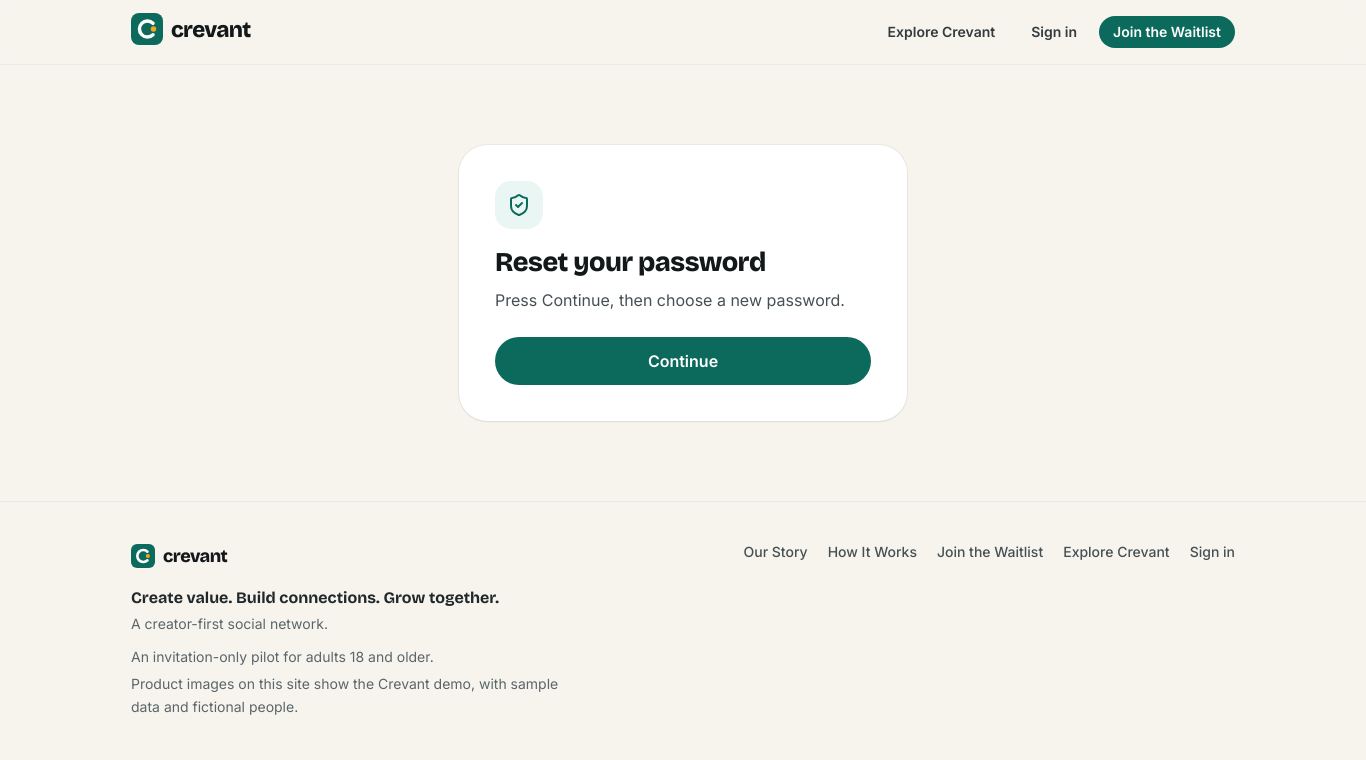
Test case: email links (/auth/confirm) › explains an expired or used link without retrying
This screenshot has width=1366, height=760.
Click the button "Continue": [683, 361] box [495, 337, 871, 385]
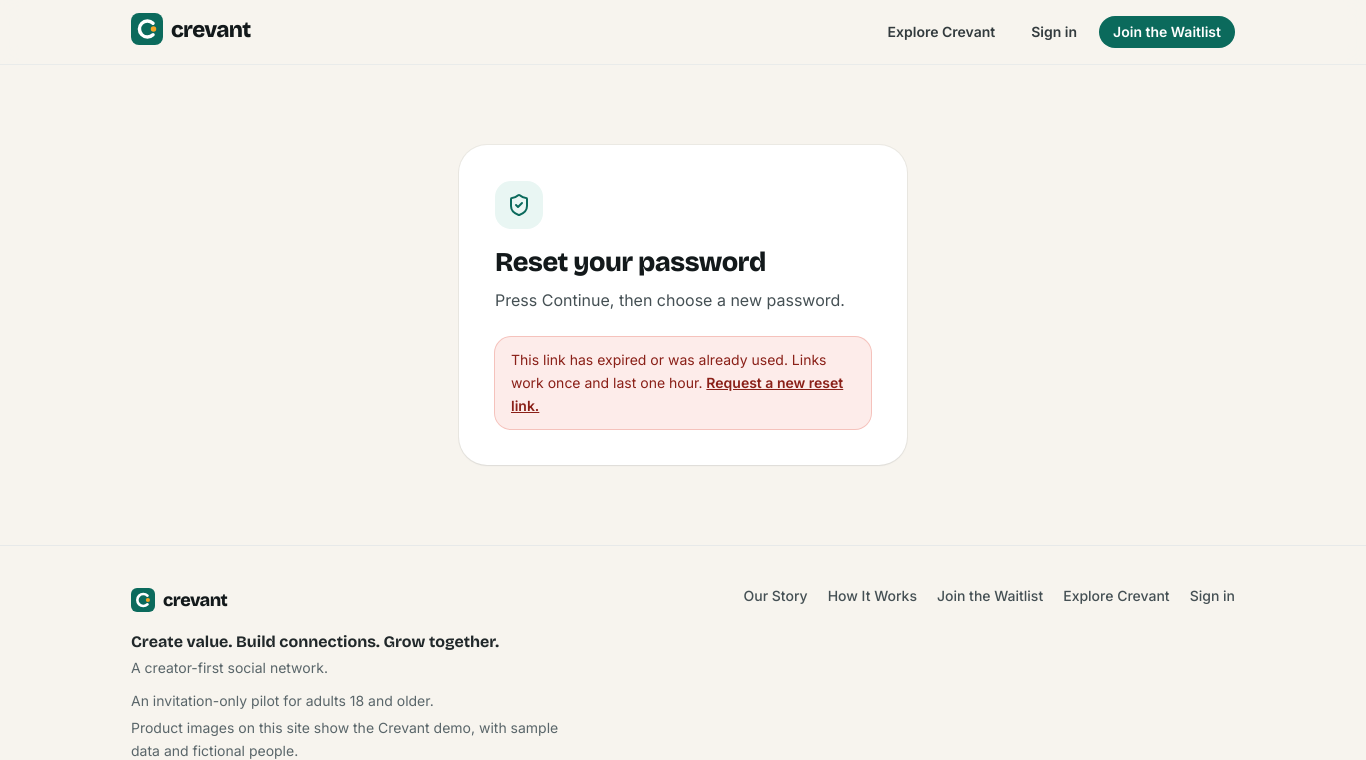
Now the text "This link has expired or was already used" is shown, box [511, 351, 826, 391]
